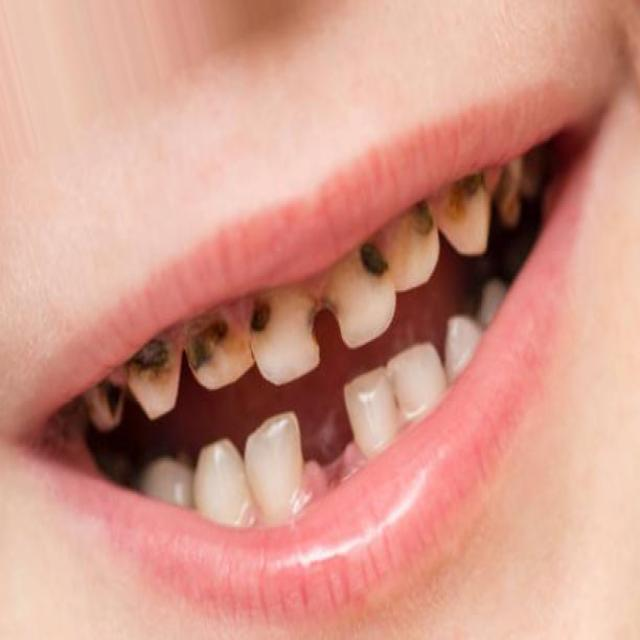caries: (335, 229, 397, 327), (177, 307, 240, 398), (125, 327, 185, 418), (487, 159, 533, 248), (444, 165, 482, 252), (300, 292, 347, 361), (402, 187, 443, 266), (242, 288, 281, 358), (91, 375, 128, 433)
